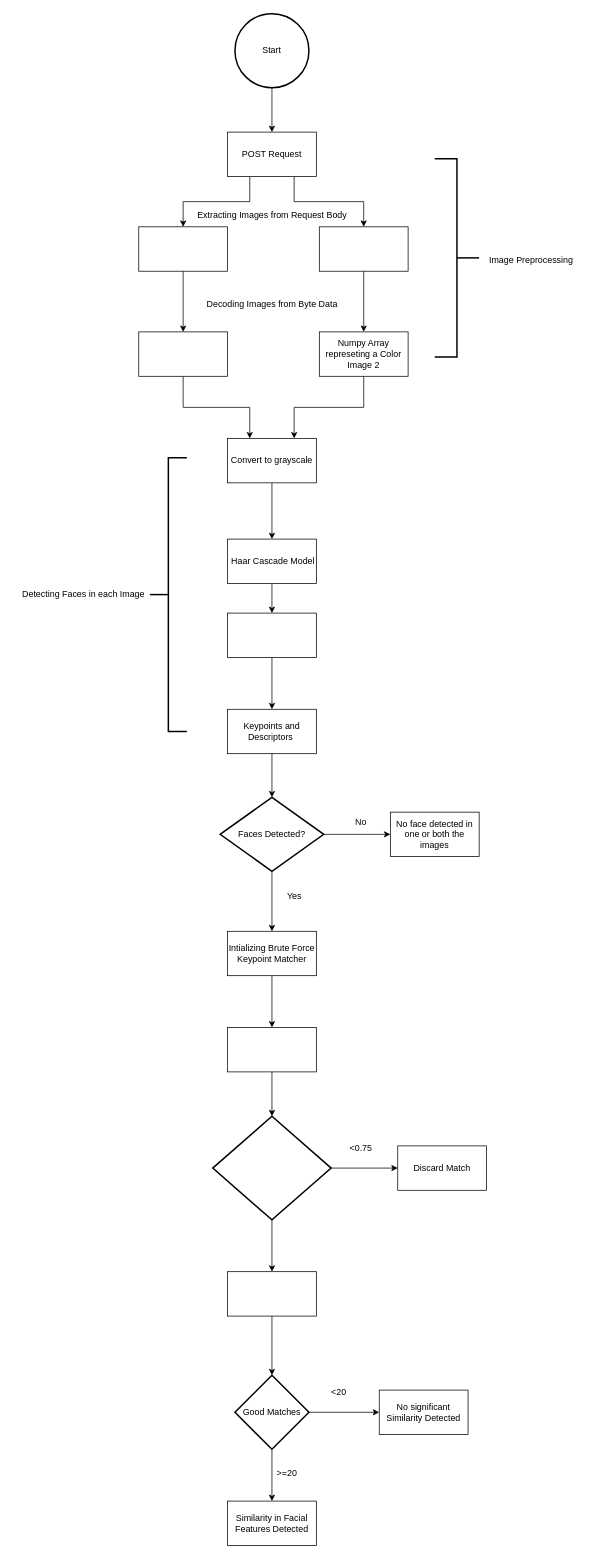
Some shapes in this 595 by 1558 pixel diagram are drawn without their labels. Here are the shapes that lost their labels. From the top down, the box of each, then its label:
(138, 226, 228, 271): Image 1
(319, 226, 408, 271): Image 2
(138, 331, 228, 376): Numpy Array represeting a Color Image 1
(227, 612, 316, 657): SIFT
(227, 1027, 316, 1072): KNN Matching
(212, 1115, 332, 1220): Ratio between best match and second best match
(227, 1271, 316, 1316): Consider as Good Match
